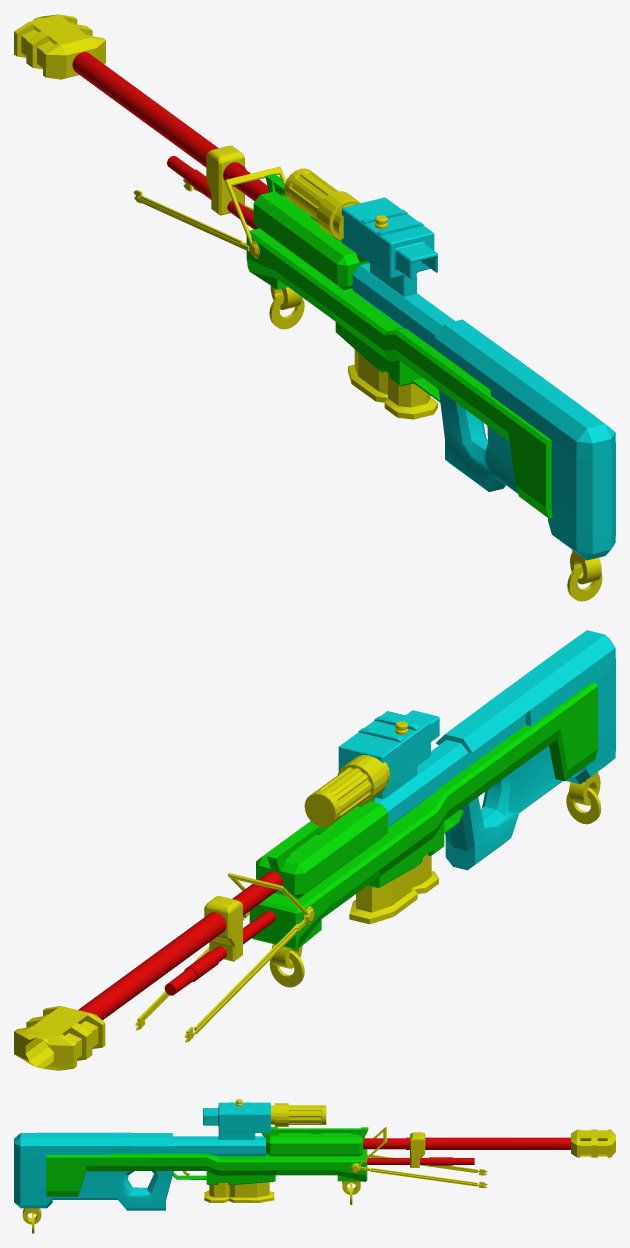
Rendered from Sniper.fbx.
3 views of the same model, one above another, from view 1: azimuth 30°, elevation 25°; view 2: azimuth 150°, elevation 25°; view 3: azimuth 270°, elevation 25° (orthographic). The views are drawn at different scales.
Visible parts, largest first — view 1: Sniper; view 2: Sniper; view 3: Sniper.
Boxes of the visible parts, x1,y1,x2,y2 form: Sniper: (14, 14, 615, 601); Sniper: (14, 630, 615, 1070); Sniper: (14, 1099, 615, 1233).
Size of the model in its own units: 0.1159 by 0.4481 by 1.88.
